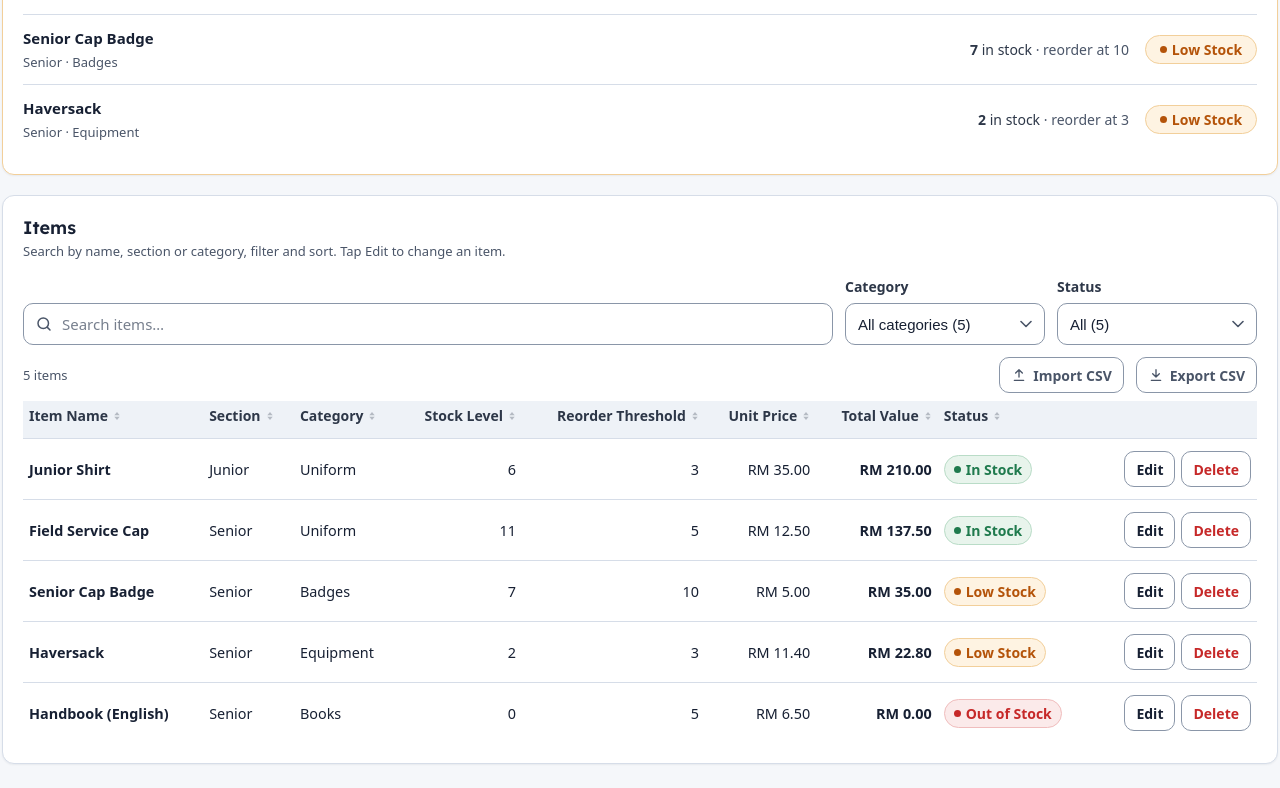
it: the app › asks before deleting; Cancel keeps the item, Delete removes it
The width and height of the screenshot is (1280, 788).
(page scrolled)
Click the button with aria-label "Delete Senior Cap Badge". click: (1216, 591)
box: [1182,573,1251,609]
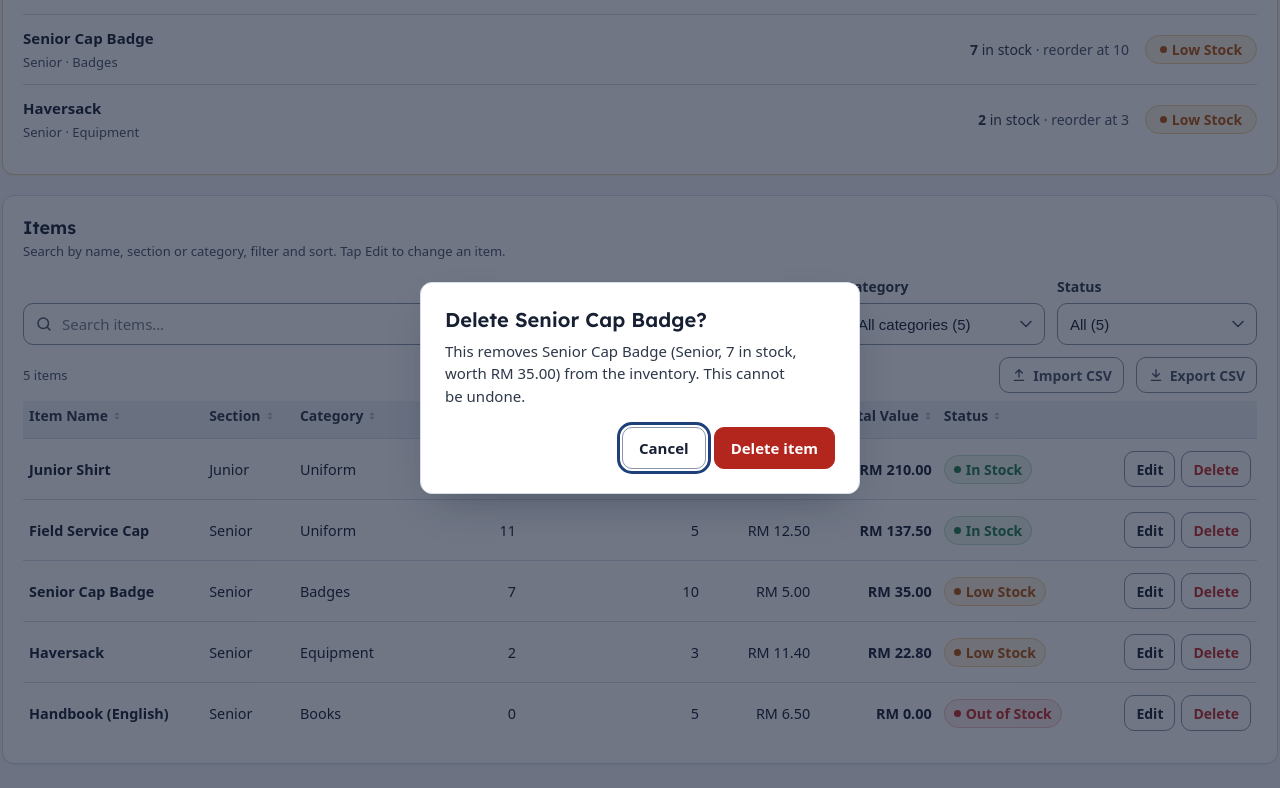
Now the dialog shows "Delete Senior Cap Badge?", box [420,282,860,494]
Click the button "Cancel". click: (664, 448)
box: [622,427,706,469]
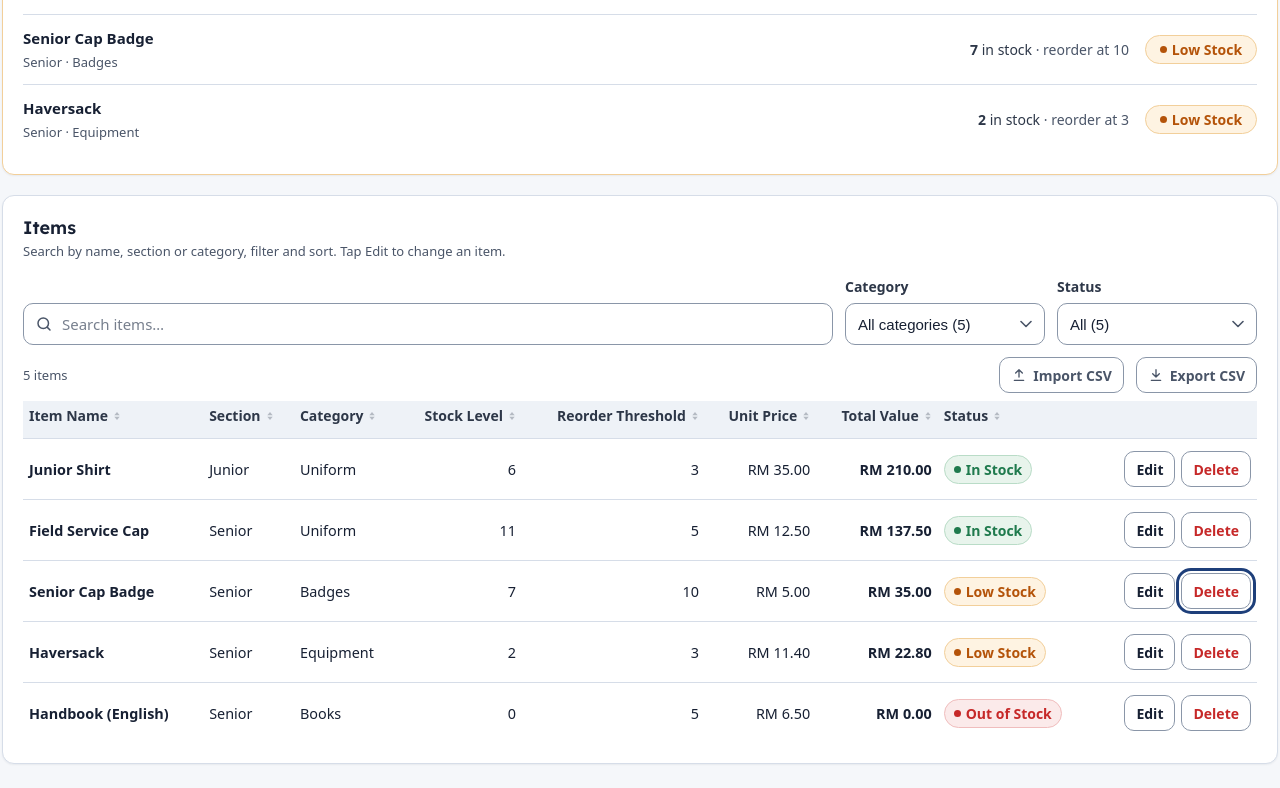
Now the dialog is gone
Click the button with aria-label "Delete Senior Cap Badge". click: (1216, 591)
box: [1182,573,1251,609]
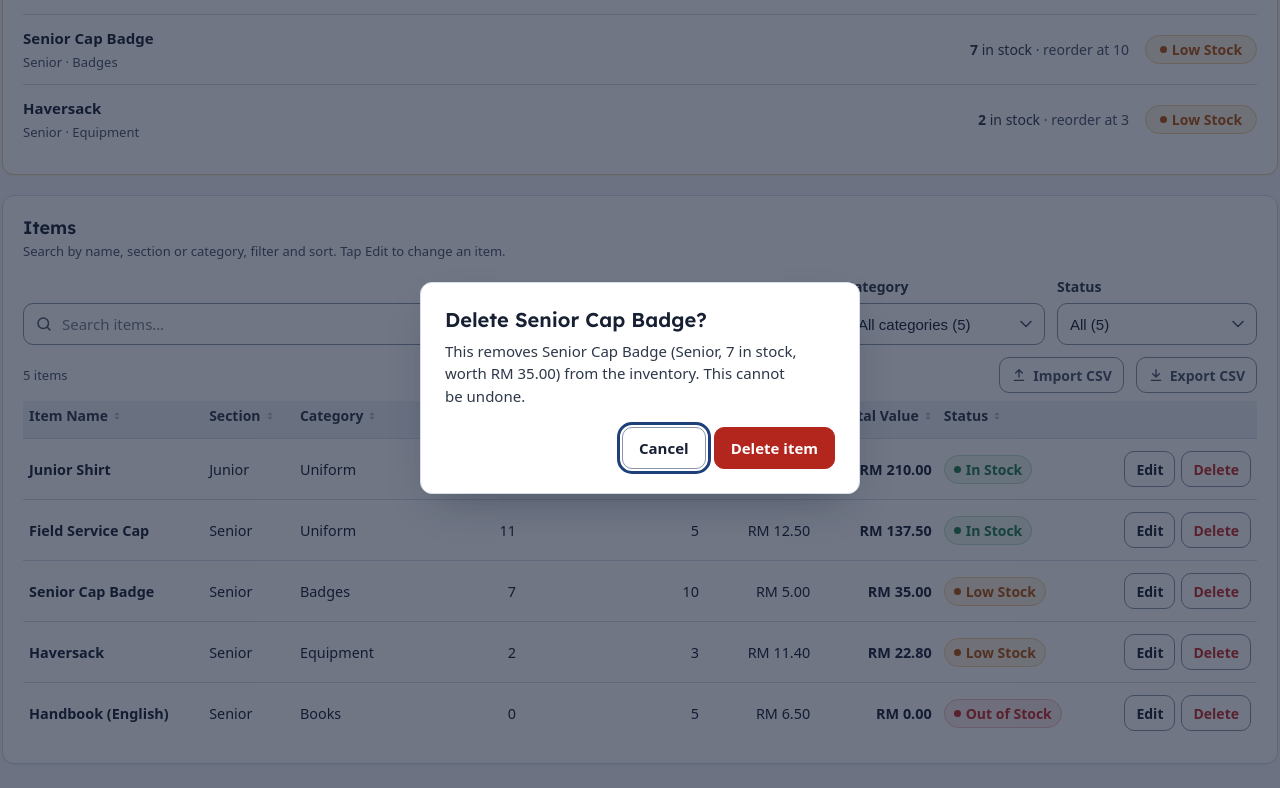
Press Escape
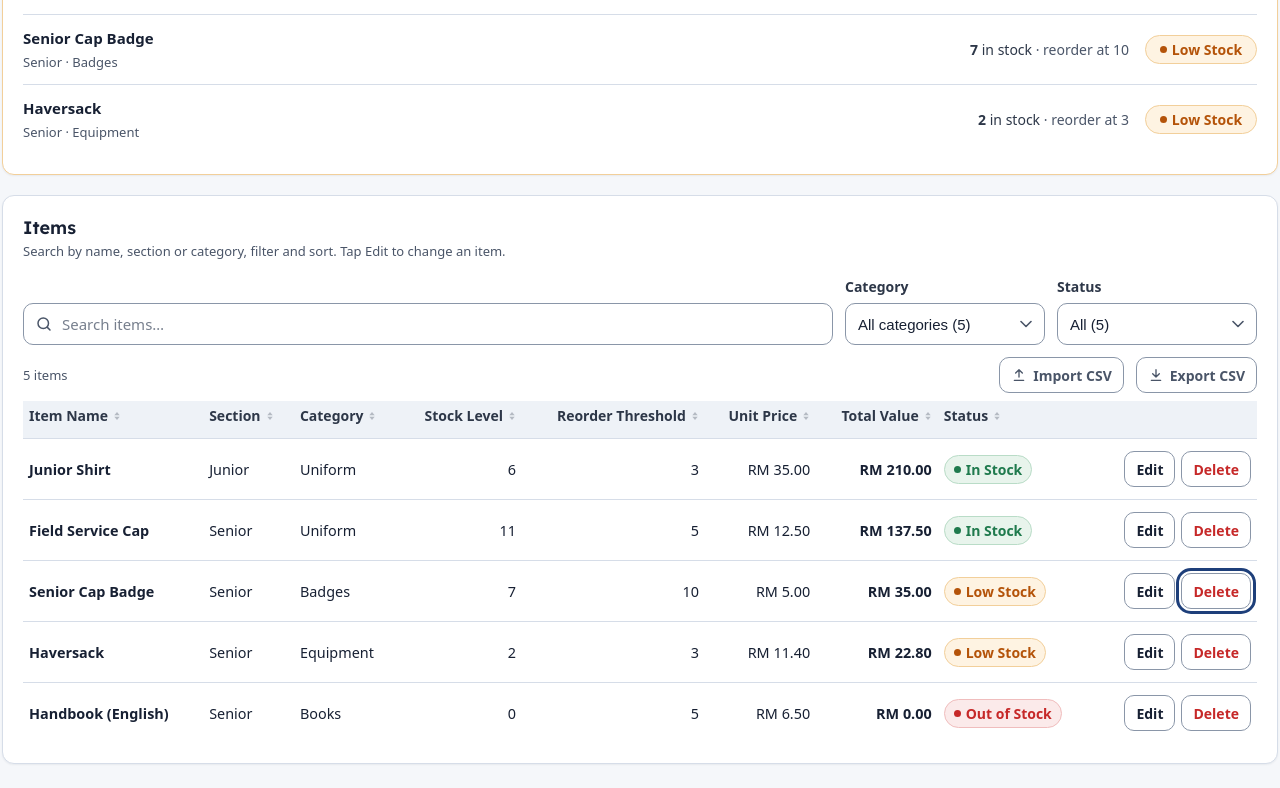
Now the dialog is gone
Click the button with aria-label "Delete Senior Cap Badge". click: (1216, 591)
box: [1182,573,1251,609]
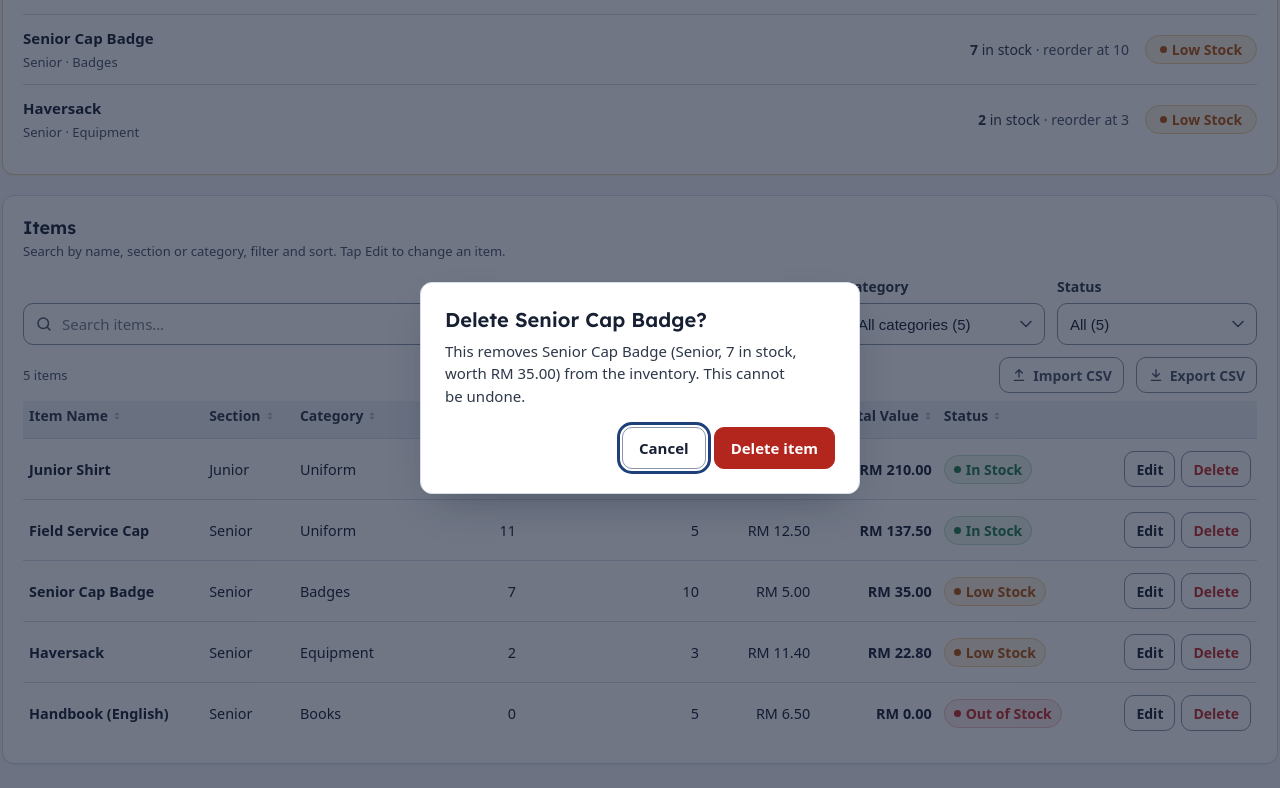
Click the button "Delete item". click: (774, 448)
box: [714,427,835,469]
(page scrolled)
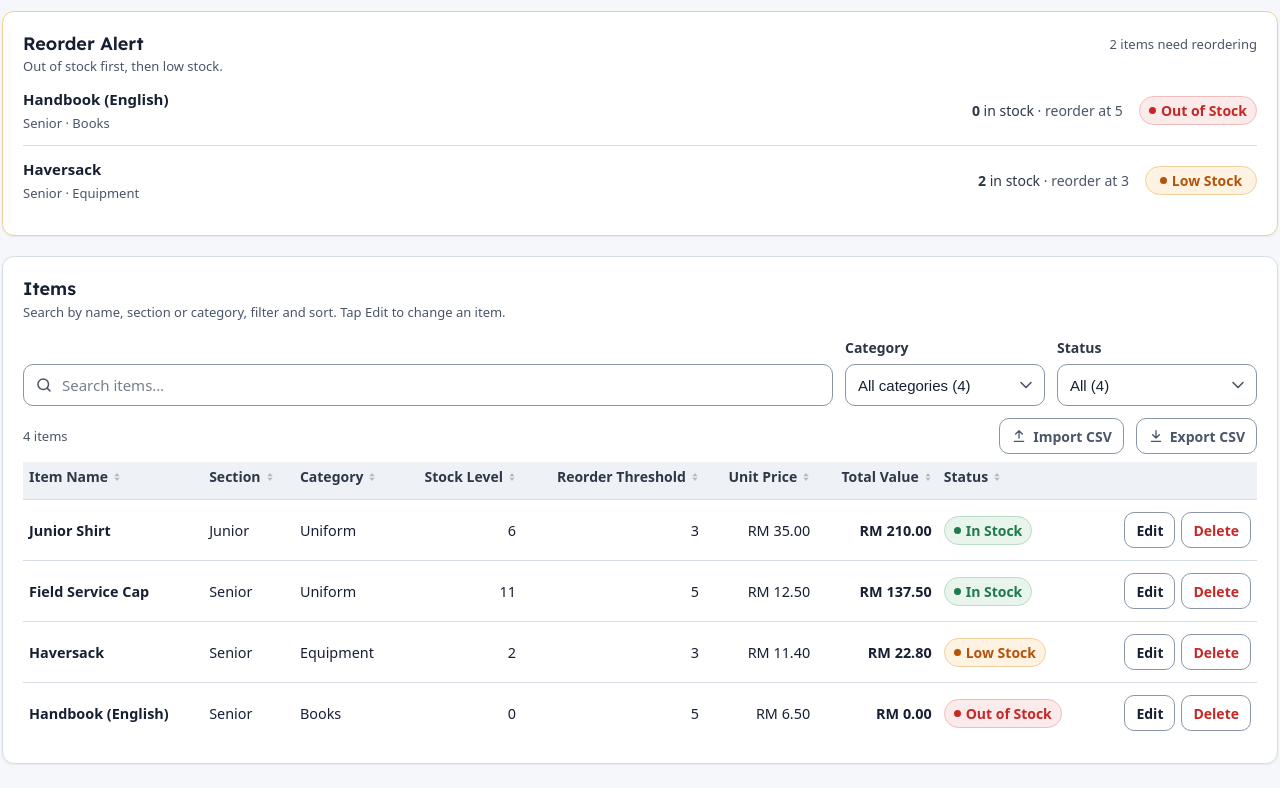
Now the text "Senior Cap Badge" is gone
